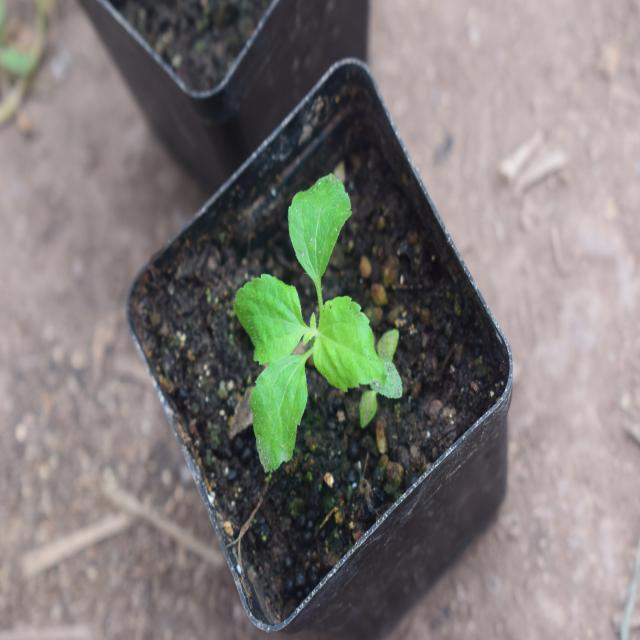billygoat_weed: (222, 178, 385, 478)
